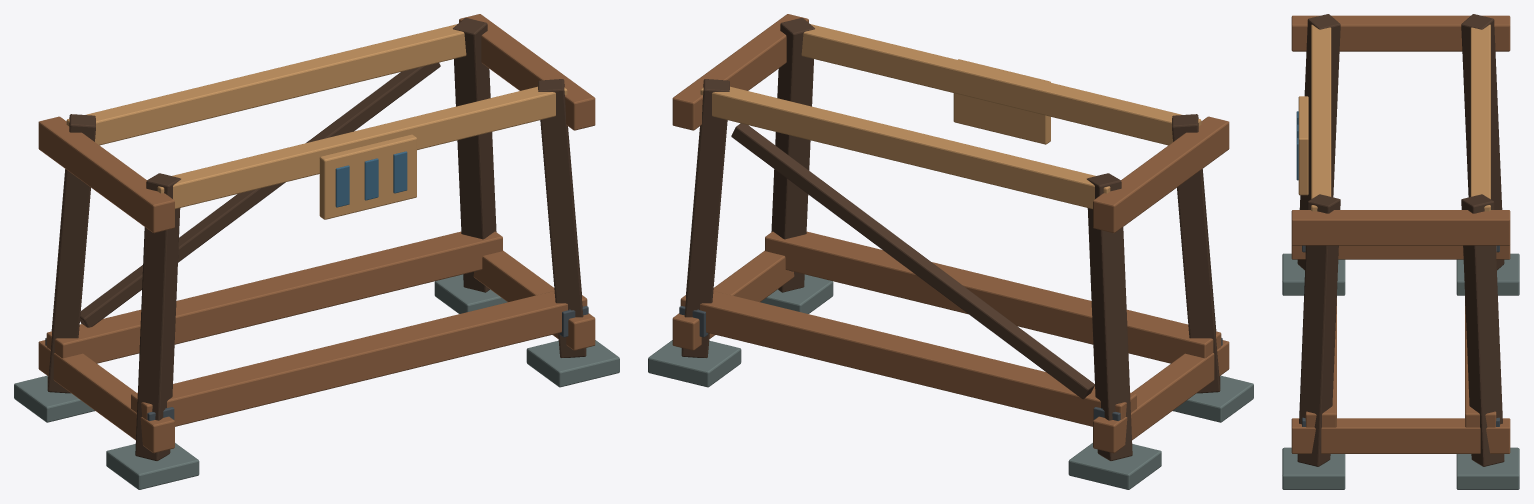
The model's file is freight_depot_rack.glb.
3 views of the same model, side by side, from view 1: azimuth 30°, elevation 25°; view 2: azimuth 150°, elevation 25°; view 3: azimuth 270°, elevation 25° (orthographic). The views are drawn at different scales.
Visible parts, largest first — view 1: freight_depot_rack__structure, freight_depot_rack__finish; view 2: freight_depot_rack__structure; view 3: freight_depot_rack__structure, freight_depot_rack__finish.
Part boxes in pixels (bbox=[...]): freight_depot_rack__structure: bbox=[14, 14, 619, 489]; freight_depot_rack__finish: bbox=[45, 151, 588, 420]; freight_depot_rack__structure: bbox=[648, 14, 1253, 489]; freight_depot_rack__structure: bbox=[1282, 14, 1519, 489]; freight_depot_rack__finish: bbox=[1296, 111, 1499, 426].
Size of the model in its own units: 2.84 by 1.6 by 1.28.
